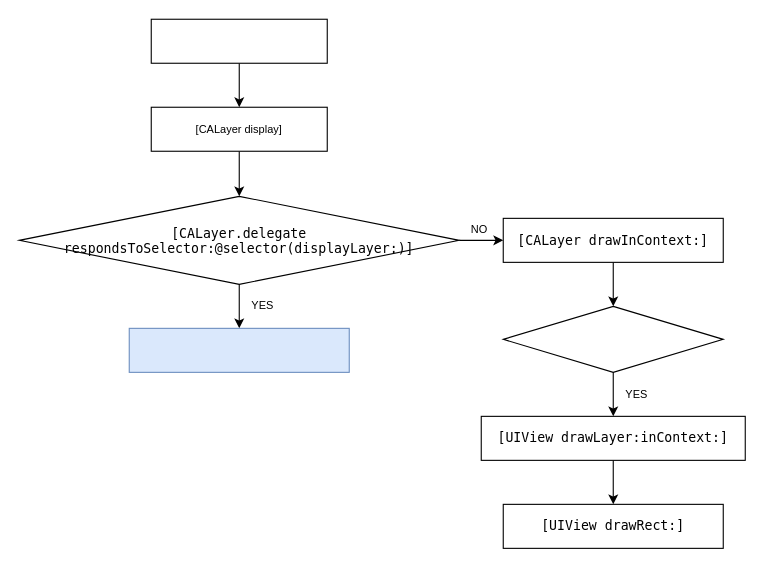
Some shapes in this 765 by 568 pixel diagram are drawn without their labels. The shapes that lost their labels are listed below. From the top down, each one's centre as x and y in pixels, then its label:
At [238,40]: "[UIView setNeedsDisplay]".
At [238,349]: "[UIView displayLayer:]".
At [612,338]: "CALayer. delegate != nil".
